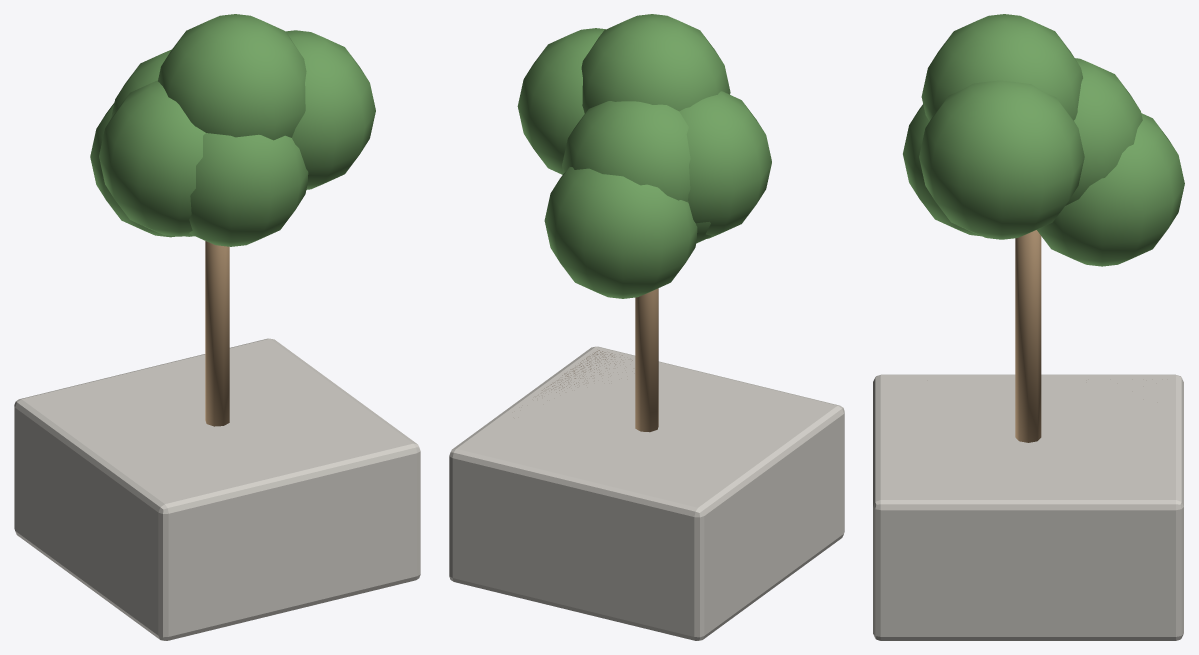
The model's file is planter.glb.
3 renders of one model, left to right at view 1: azimuth 30°, elevation 25°; view 2: azimuth 150°, elevation 25°; view 3: azimuth 270°, elevation 25°, orthographic. The views are drawn at different scales.
Visible parts, largest first — view 1: planter; view 2: planter; view 3: planter.
Part boxes in pixels (<box>): planter: <box>14,14,420,640</box>; planter: <box>449,14,844,640</box>; planter: <box>873,14,1184,640</box>.
Size of the model in its own units: 1.22 by 2.38 by 1.2.
